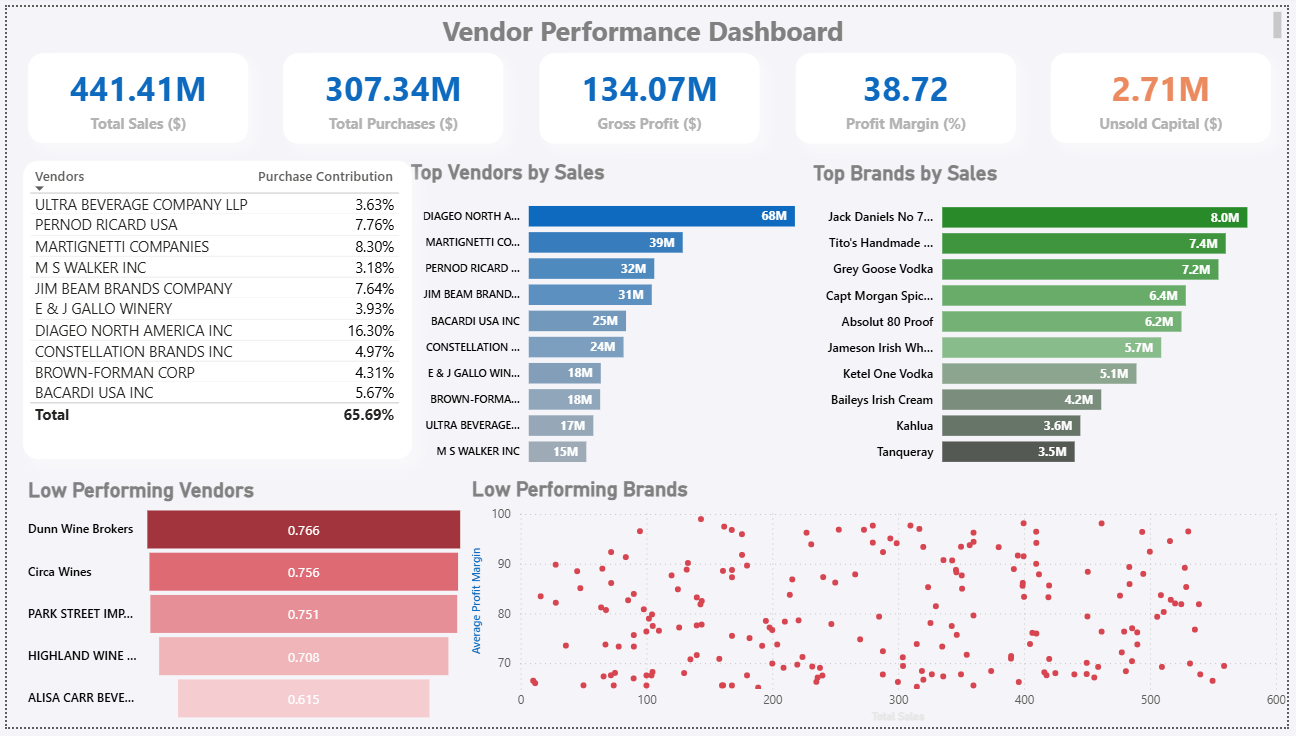

This screenshot's page, from the dashboard's own definition file:
{"tool":"powerbi","page":{"name":"Page 1","canvas":[1280,720],"ordinal":0},"visuals":[{"type":"card","fields":{"Values":["Sum(Vendor Sales Summary.TotalSalesDollars)"]},"box":[20.8,42.9,227.3,94.8],"z":0},{"type":"card","fields":{"Values":["Sum(Vendor Sales Summary.TotalPurchaseDollars)"]},"box":[272.7,43.7,228,94],"z":1000},{"type":"card","fields":{"Values":["Sum(Vendor Sales Summary.GrossProfit)"]},"box":[525.3,42.9,228.6,94.8],"z":2000},{"type":"card","fields":{"Values":["Sum(Vendor Sales Summary.UnsoldCapital)"]},"box":[1031.2,44.2,228.6,93.5],"z":3000},{"type":"barChart","title":"Top Vendors by Sales","fields":{"Y":["Sum(Vendor Sales Summary.TotalSalesDollars)"],"Category":["Vendor Sales Summary.VendorName"]},"box":[475.3,154.5,390.9,316.9],"z":4000},{"type":"card","fields":{"Values":["Avg(Vendor Sales Summary.ProfitMargin)"]},"box":[778.5,43.7,228,94],"z":5000},{"type":"textbox","box":[0,0,1279.8,40.5],"z":6000},{"type":"donutChart","title":"Purchase Contribution(%)","fields":{"Category":["Purchase_Contribution.VendorName"],"Y":["Sum(Purchase_Contribution.PurchaseContribution(%))"]},"box":[15.6,154.5,446.8,297.4],"z":7000},{"type":"funnel","title":"Low Performing Vendors","fields":{"Category":["LowPerformaceVendor.VendorName"],"Y":["Avg(LowPerformaceVendor.Average Stock Turnover)"]},"box":[15.6,471.4,448.1,248.1],"z":8000},{"type":"barChart","title":"Top Brands by Sales","fields":{"Y":["Sum(Vendor Sales Summary.TotalSalesDollars)"],"Category":["Vendor Sales Summary.Description"]},"box":[866.2,154.5,413,316.9],"z":9000},{"type":"scatterChart","title":"Low Performing Brands","fields":{"X":["Sum(BrandPerformance.TotalSales)"],"Y":["Avg(BrandPerformance.AvgProfitMargin)"],"Category":["BrandPerformance.Description"],"Series":["BrandPerformance.TargetBrands"]},"box":[463.6,470.1,815.6,249.4],"z":10000}]}

Visuals, with their boxes in screenshot pixels (x1, y1, x2, y2), scaled from the page's 1280x720 canvas onto the 1296x736 screenshot:
card - Sum(Vendor Sales Summary.TotalSalesDollars): left=21, top=44, right=251, bottom=141
card - Sum(Vendor Sales Summary.TotalPurchaseDollars): left=276, top=45, right=507, bottom=141
card - Sum(Vendor Sales Summary.GrossProfit): left=532, top=44, right=763, bottom=141
card - Sum(Vendor Sales Summary.UnsoldCapital): left=1044, top=45, right=1276, bottom=141
"Top Vendors by Sales" barChart: left=481, top=158, right=877, bottom=482
card - Avg(Vendor Sales Summary.ProfitMargin): left=788, top=45, right=1019, bottom=141
textbox: left=0, top=0, right=1295, bottom=41
"Purchase Contribution(%)" donutChart: left=16, top=158, right=468, bottom=462
"Low Performing Vendors" funnel: left=16, top=482, right=469, bottom=735
"Top Brands by Sales" barChart: left=877, top=158, right=1295, bottom=482
"Low Performing Brands" scatterChart: left=469, top=481, right=1295, bottom=735
